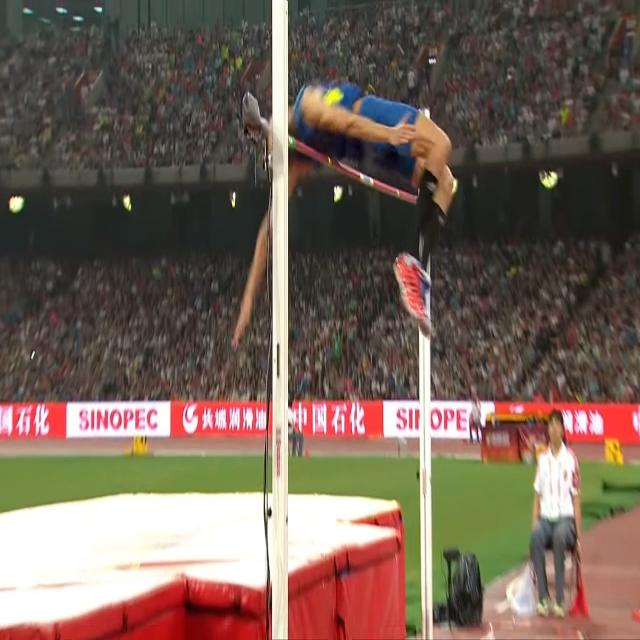jump: (233, 83, 453, 336)
